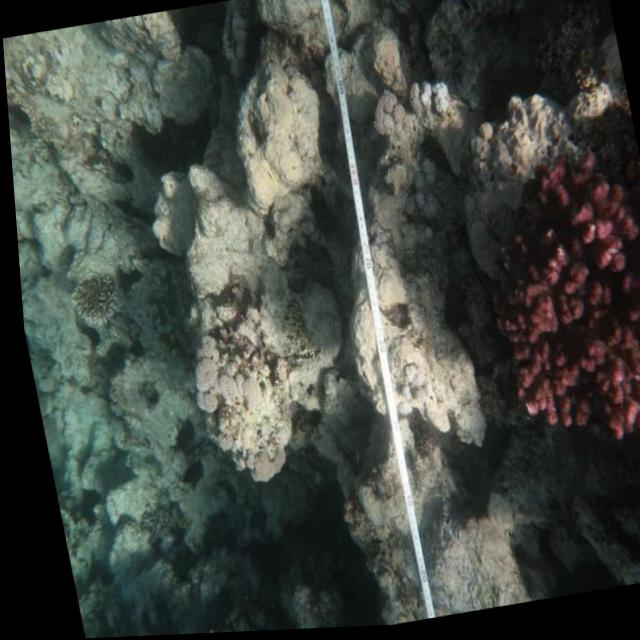Healthy Coral: (471, 145, 640, 478), (52, 260, 129, 330)
